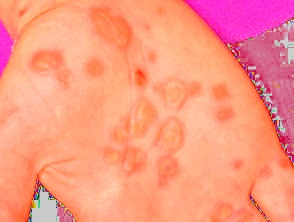SJS-TEN: (85, 39, 253, 215), (202, 127, 294, 222), (75, 0, 152, 62), (24, 46, 110, 95)
